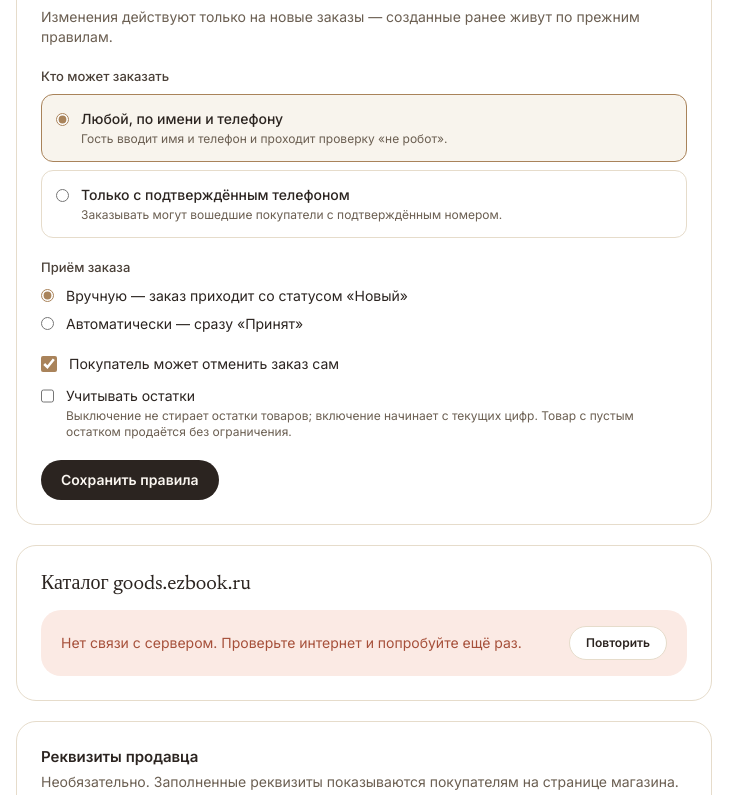
Test: SettingsPage — ordering rules › says why saving failed (server 409)
(page scrolled)
Click the checkbox labelled "Учитывать остатки" at (48, 396), box [41,388,54,404]
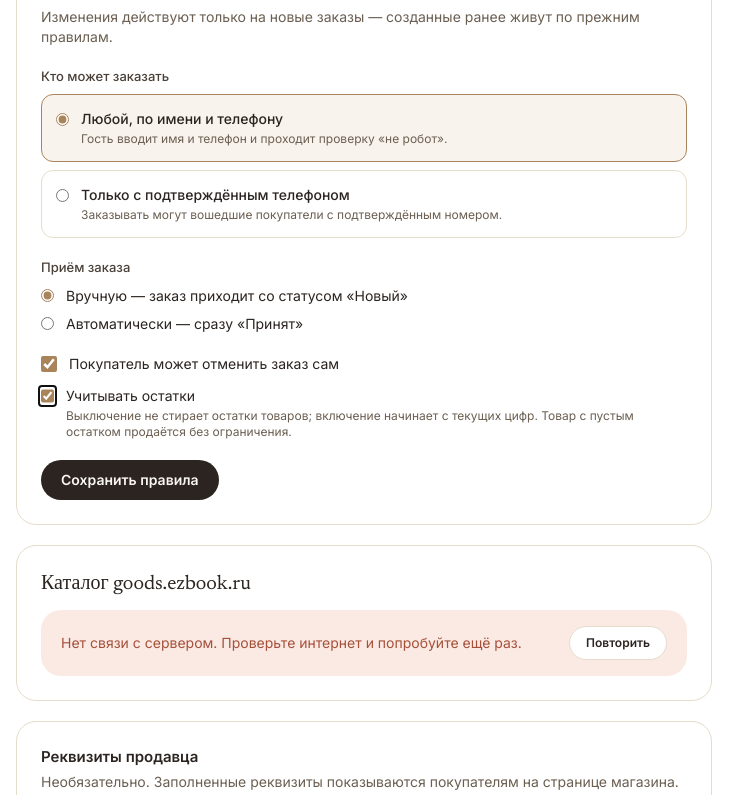
Click the button "Сохранить правила" at (130, 480), box [41,460,219,500]
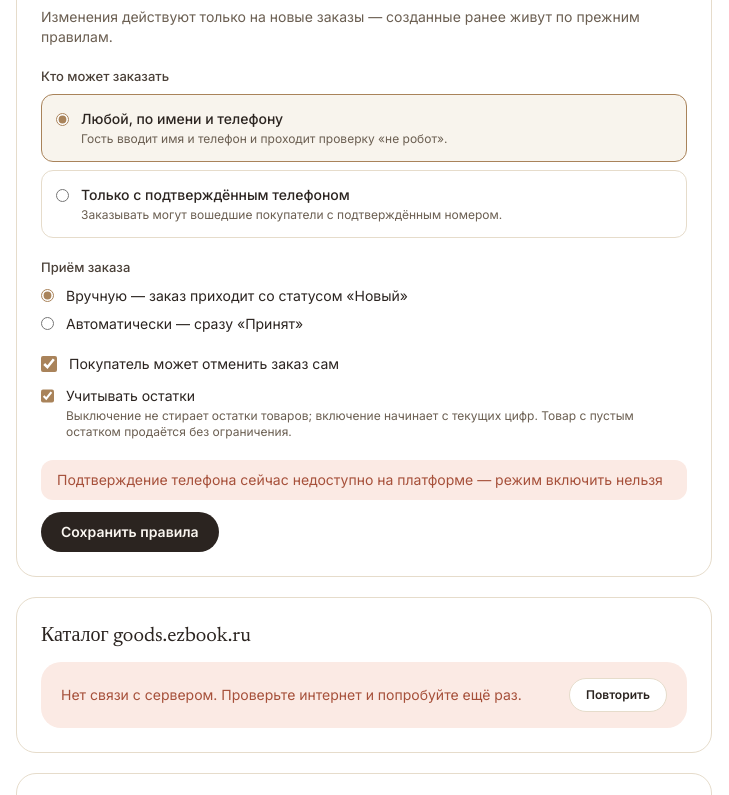
Check: the text "Подтверждение телефона сейчас недоступно на платформе — режим включить нельзя" is shown, box [41,460,687,500]
